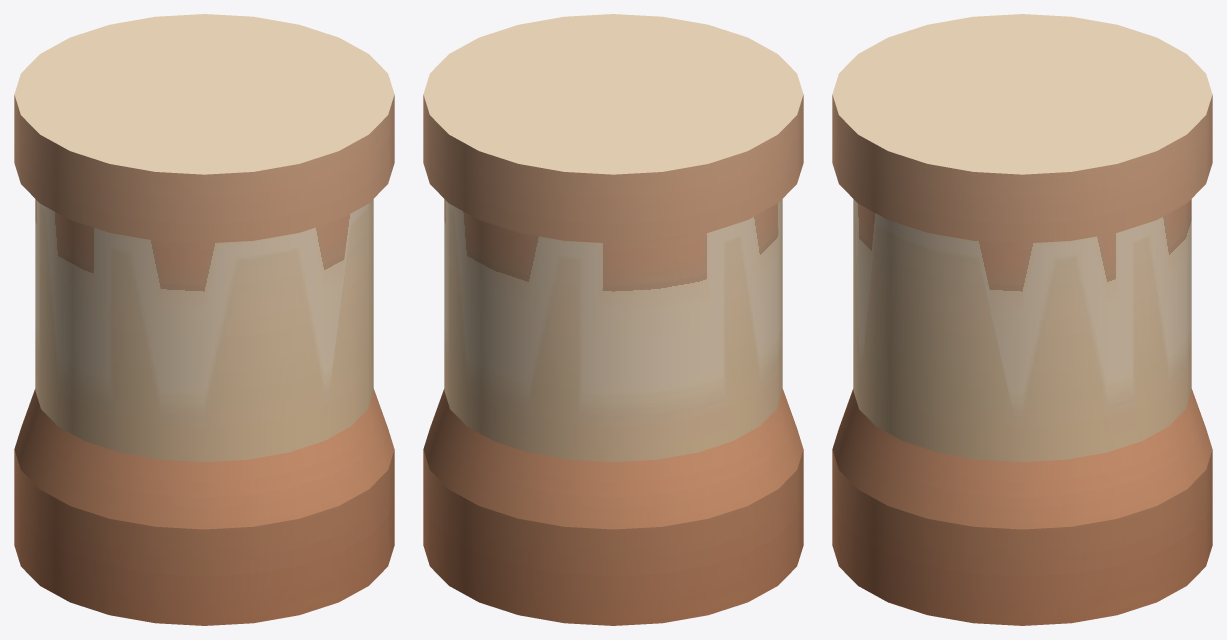
The model's file is tower-base.glb.
The picture shows the model from 3 angles, left to right: view 1: azimuth 30°, elevation 25°; view 2: azimuth 150°, elevation 25°; view 3: azimuth 270°, elevation 25°; orthographic projection.
Visible parts, largest first — view 1: tower-base; view 2: tower-base; view 3: tower-base.
Boxes of the visible parts, box(x1,y1,x2,y2) form: tower-base: box(14, 14, 394, 625); tower-base: box(423, 14, 803, 625); tower-base: box(832, 14, 1212, 625).
Size of the model in its own units: 1 by 1.31 by 1.
1 material, 1 textured.
